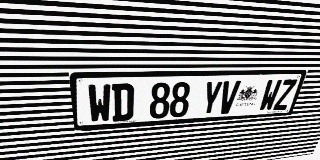8: (149, 82, 172, 119), (169, 82, 192, 118)
D: (112, 83, 134, 122)
V: (217, 80, 241, 114)
W: (87, 84, 111, 123), (258, 79, 283, 111)
Y: (199, 81, 223, 116)
Z: (273, 79, 298, 110)
